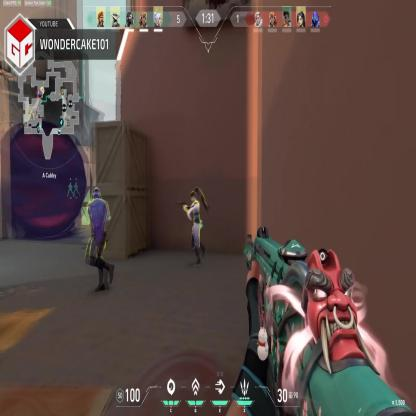enemy: (86, 185, 116, 293), (183, 183, 206, 262)
enemy_head: (92, 186, 102, 200), (190, 192, 196, 204)
